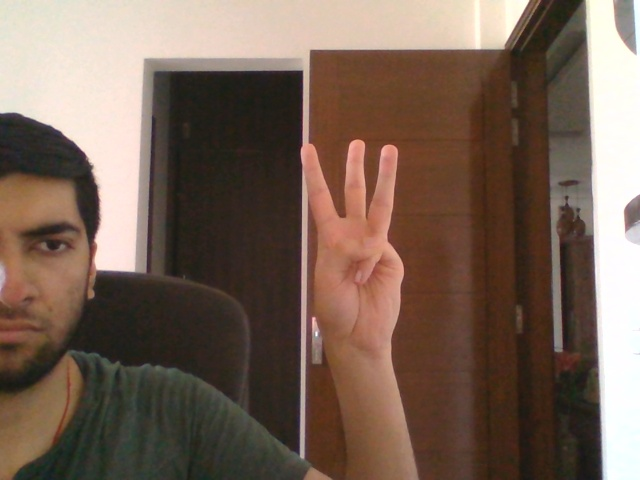LetterW: (299, 134, 406, 356)
